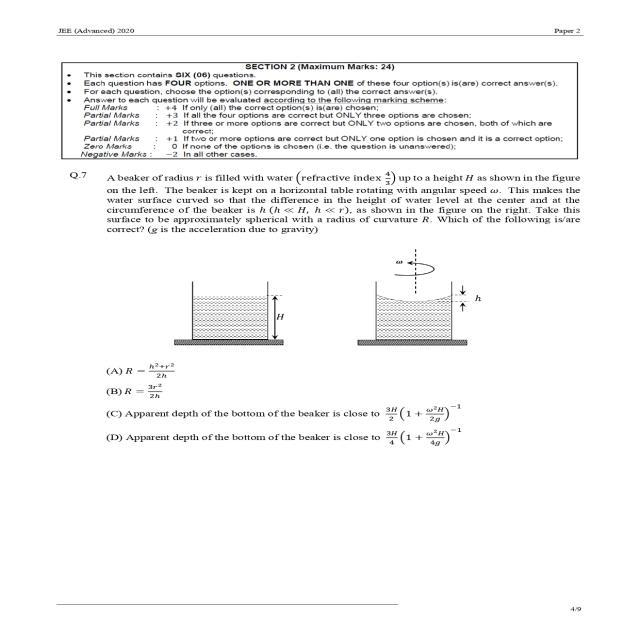Answer_Block: (43, 358, 611, 462)
Instruction: (43, 48, 611, 161)
Question_Answer_Block: (43, 162, 611, 463)
Question_Block: (43, 162, 611, 351)
Question_Paper_Area: (43, 49, 611, 564)
